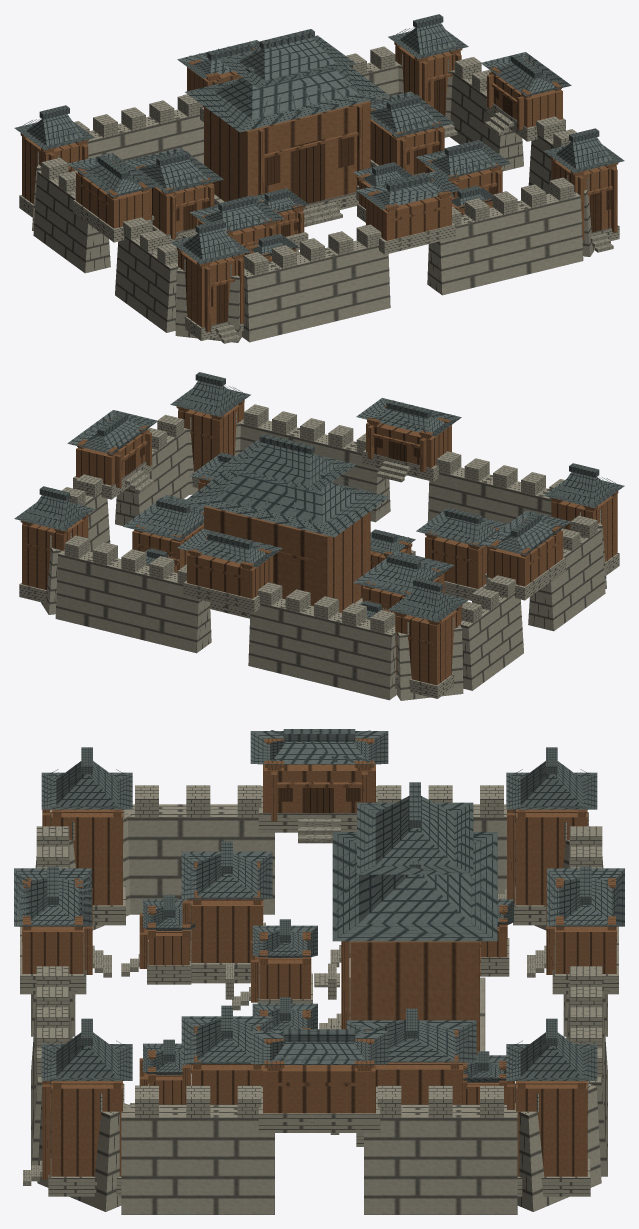
The model's file is city0-lod0.glb.
3 views of the same model, one above another, from view 1: azimuth 30°, elevation 25°; view 2: azimuth 150°, elevation 25°; view 3: azimuth 270°, elevation 25° (orthographic). The views are drawn at different scales.
Size of the model in its own units: 2.31 by 0.821 by 1.79.
1 material, 1 textured.
